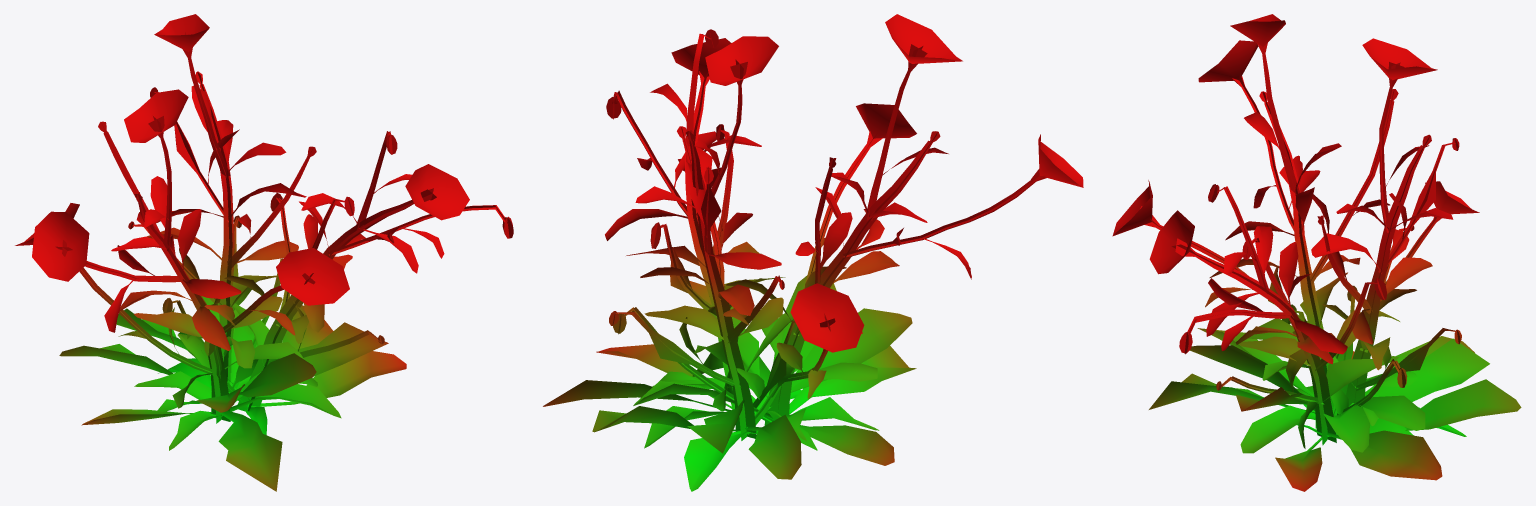
Rendered from Field Poppy_LOD2_Var7_vmcobd0ja.fbx.
The picture shows the model from 3 angles, left to right: view 1: azimuth 30°, elevation 25°; view 2: azimuth 150°, elevation 25°; view 3: azimuth 270°, elevation 25°; orthographic projection. The views are drawn at different scales.
Parts seen in each view (by area): view 1: _i1dw_Var7_LOD2; view 2: _i1dw_Var7_LOD2; view 3: _i1dw_Var7_LOD2.
Part boxes in pixels (x1,y1,x2,y2): _i1dw_Var7_LOD2: [15, 14, 513, 491]; _i1dw_Var7_LOD2: [543, 14, 1083, 491]; _i1dw_Var7_LOD2: [1112, 14, 1521, 491].
Size of the model in its own units: 63.71 by 50.93 by 49.28.
